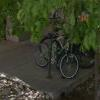Bicycle: (31, 33, 83, 82)
